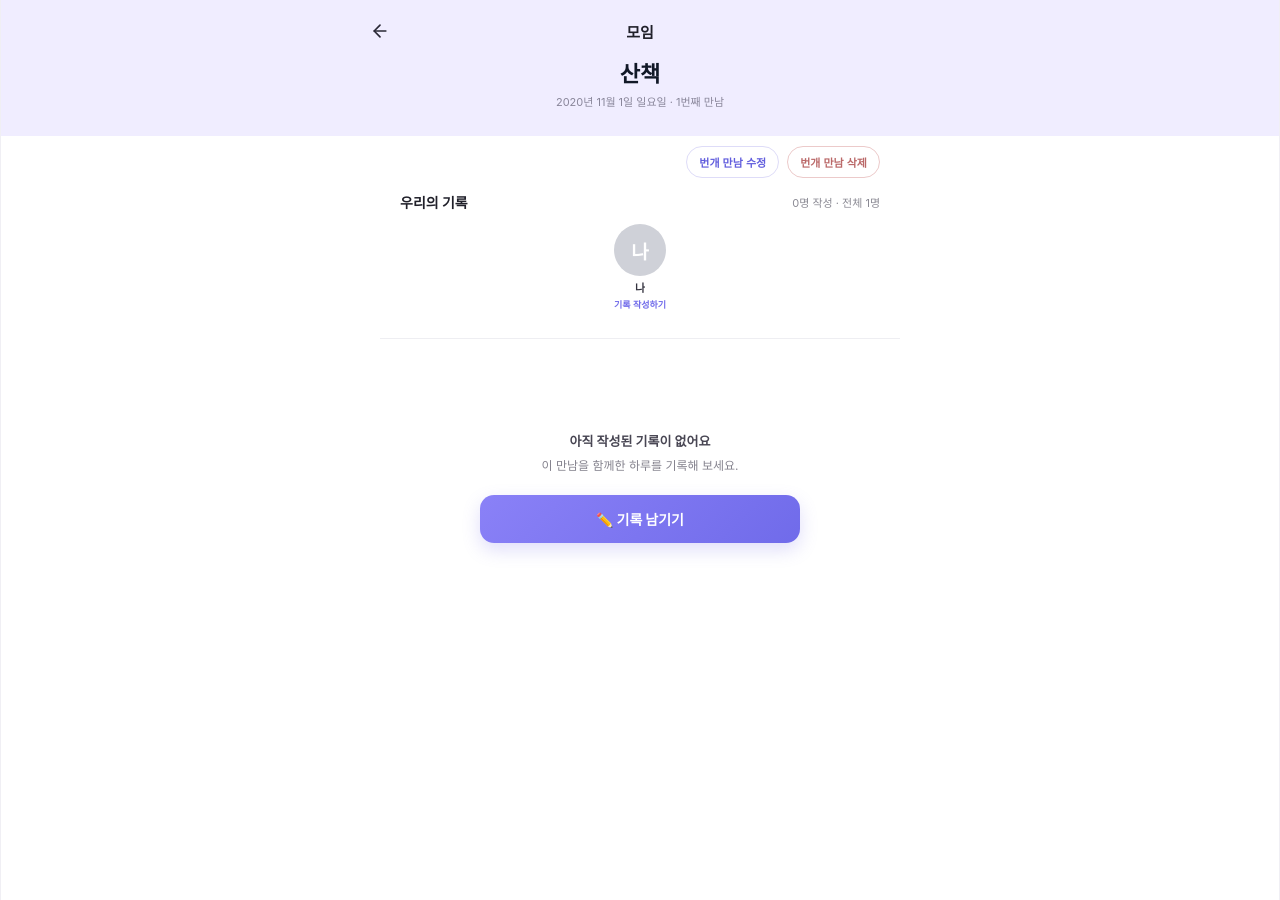
번개 만남 등록자는 상세 화면에서 삭제하고 캘린더로 돌아간다
This screenshot has width=1280, height=900.
Click the button "번개 만남 삭제".
click(834, 162)  # box [787,146,880,178]
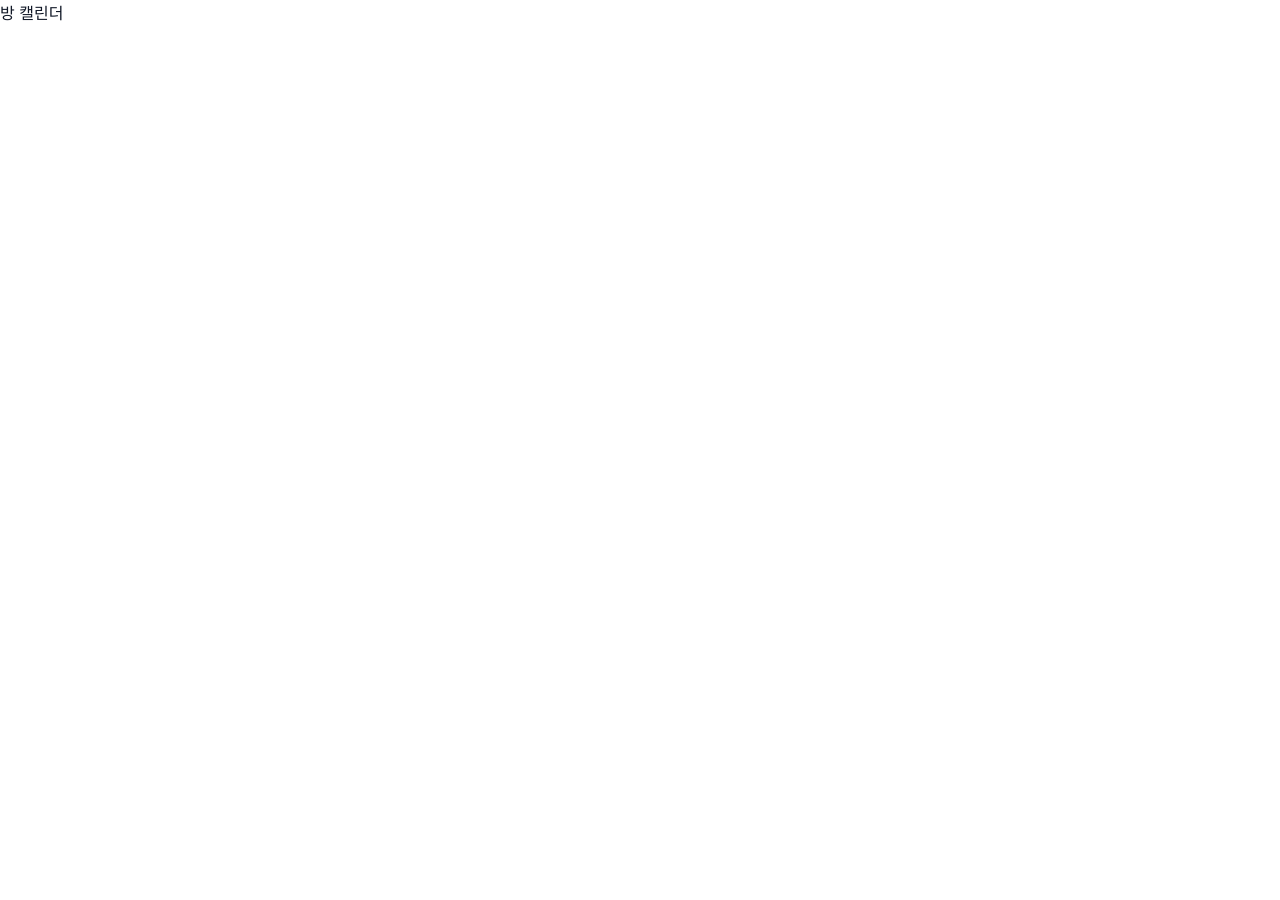
Result: the text "방 캘린더" is shown at [0,3,63,23]
